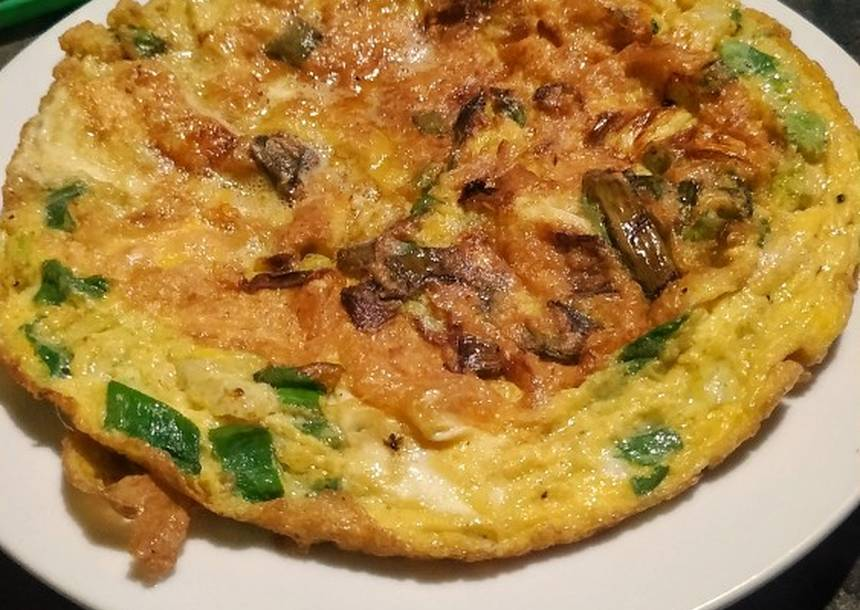Telur: (8, 12, 856, 568)
